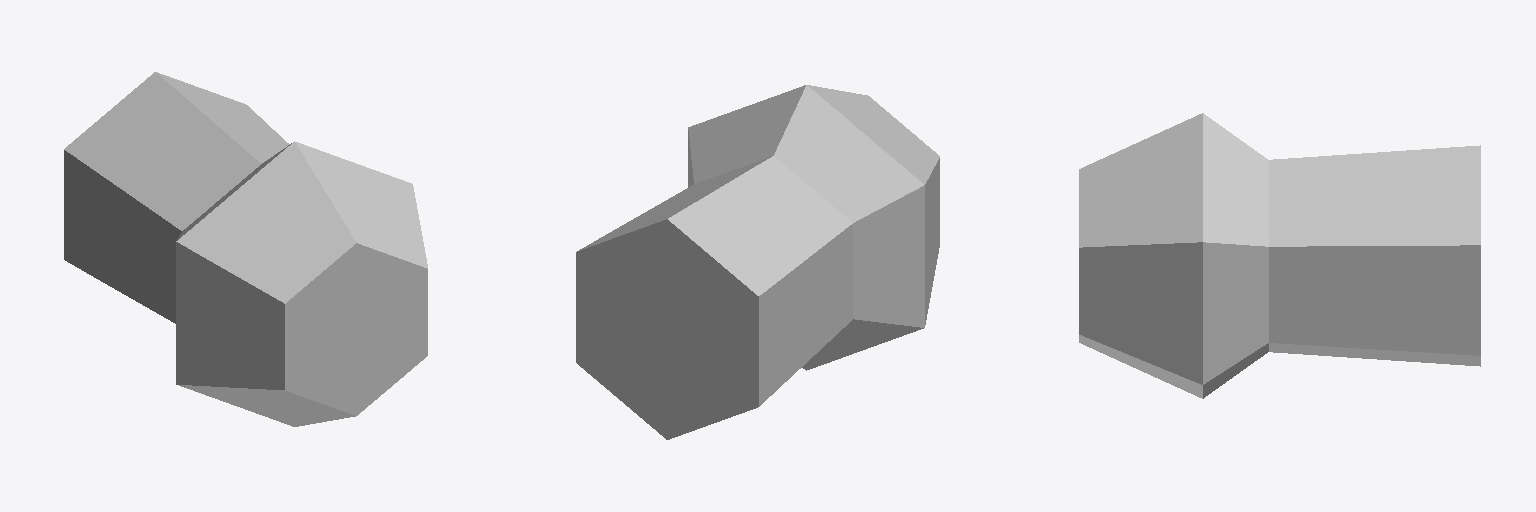
Rendered from mushi4.obj.
3 views of the same model, side by side, from view 1: azimuth 30°, elevation 25°; view 2: azimuth 150°, elevation 25°; view 3: azimuth 270°, elevation 25° (orthographic).
Parts seen in each view (by area): view 1: Cylinder.003; view 2: Cylinder.003; view 3: Cylinder.003.
Boxes of the visible parts, box(x1,y1,x2,y2) form: Cylinder.003: box(64, 72, 427, 426); Cylinder.003: box(576, 85, 939, 439); Cylinder.003: box(1079, 113, 1480, 398).
Size of the model in its own units: 0.0528 by 0.0609 by 0.0778.